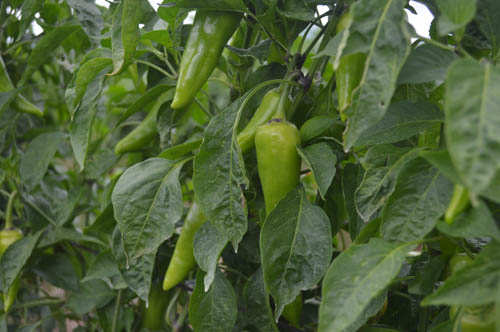ChiliPepper: (166, 13, 240, 109), (259, 120, 300, 220), (162, 205, 208, 294), (333, 22, 369, 124), (235, 87, 286, 157), (112, 101, 164, 157)
